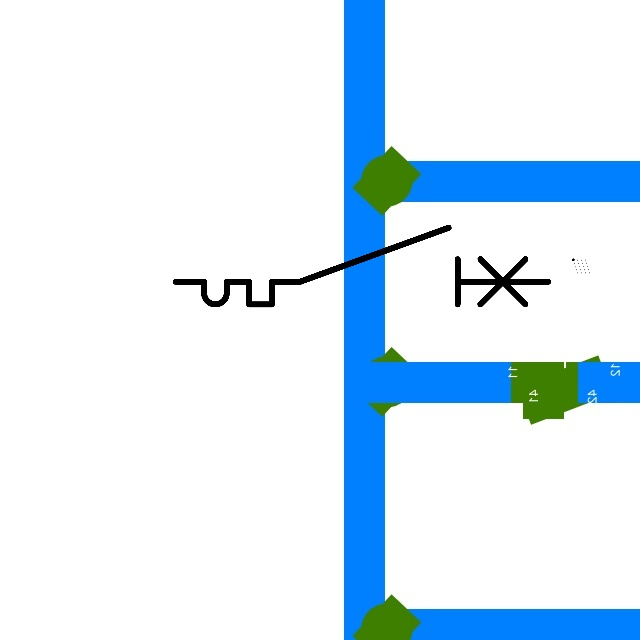interruptor_termomagnetico: (166, 218, 557, 314)
